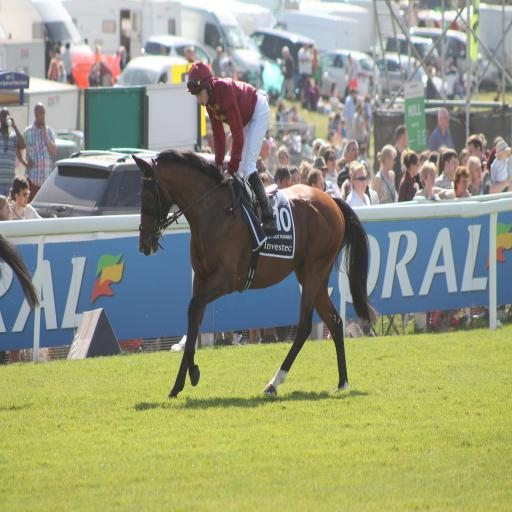Horse: (131, 150, 379, 397), (0, 230, 42, 312)
